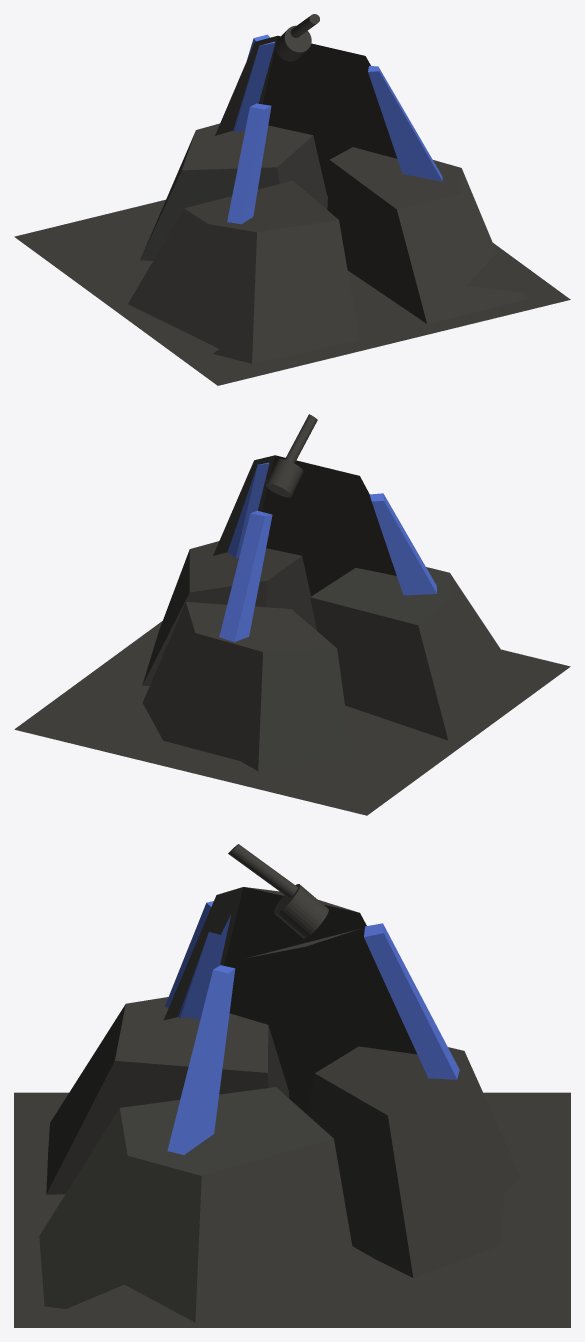
The model's file is Home1.fbx.
3 renders of one model, top to bottom at view 1: azimuth 30°, elevation 25°; view 2: azimuth 150°, elevation 25°; view 3: azimuth 270°, elevation 25°, orthographic. The views are drawn at different scales.
Visible parts, largest first — view 1: 装甲, 装甲2, Plane, 基地, 装甲1, 灯条.002, 灯条.001, 灯条, 炮筒; view 2: 装甲1, Plane, 装甲, 基地, 装甲2, 灯条, 灯条.001, 灯条.002, 炮筒, 炮管？; view 3: 装甲2, Plane, 装甲1, 基地, 装甲, 灯条.002, 灯条, 灯条.001, 炮筒, 炮管？.
Boxes of the visible parts, box(x1,y1,x2,y2) form: 装甲: box(128, 180, 359, 363); 装甲2: box(327, 147, 527, 323); Plane: box(14, 199, 570, 385); 基地: box(215, 35, 397, 196); 装甲1: box(140, 123, 327, 260); 灯条.002: box(368, 66, 442, 181); 灯条.001: box(227, 103, 271, 224); 灯条: box(233, 34, 275, 132); 炮筒: box(275, 25, 311, 61); 装甲1: box(142, 602, 352, 771); Plane: box(14, 621, 570, 815); 装甲: box(310, 567, 510, 740); 基地: box(213, 455, 396, 596); 装甲2: box(142, 541, 316, 685); 灯条: box(219, 510, 272, 642); 灯条.001: box(369, 493, 436, 595); 灯条.002: box(227, 462, 269, 558); 炮筒: box(266, 459, 303, 497); 炮管？: box(285, 414, 317, 463); 装甲2: box(39, 1087, 360, 1322); Plane: box(14, 1092, 570, 1327); 装甲1: box(307, 1046, 520, 1277); 基地: box(164, 887, 416, 1113); 装甲: box(46, 997, 289, 1194); 灯条.002: box(167, 965, 235, 1154); 灯条: box(364, 923, 459, 1079); 灯条.001: box(165, 901, 231, 1019); 炮筒: box(274, 884, 328, 938); 炮管？: box(228, 844, 297, 897).
Size of the model in its own units: 367 by 270 by 367.
